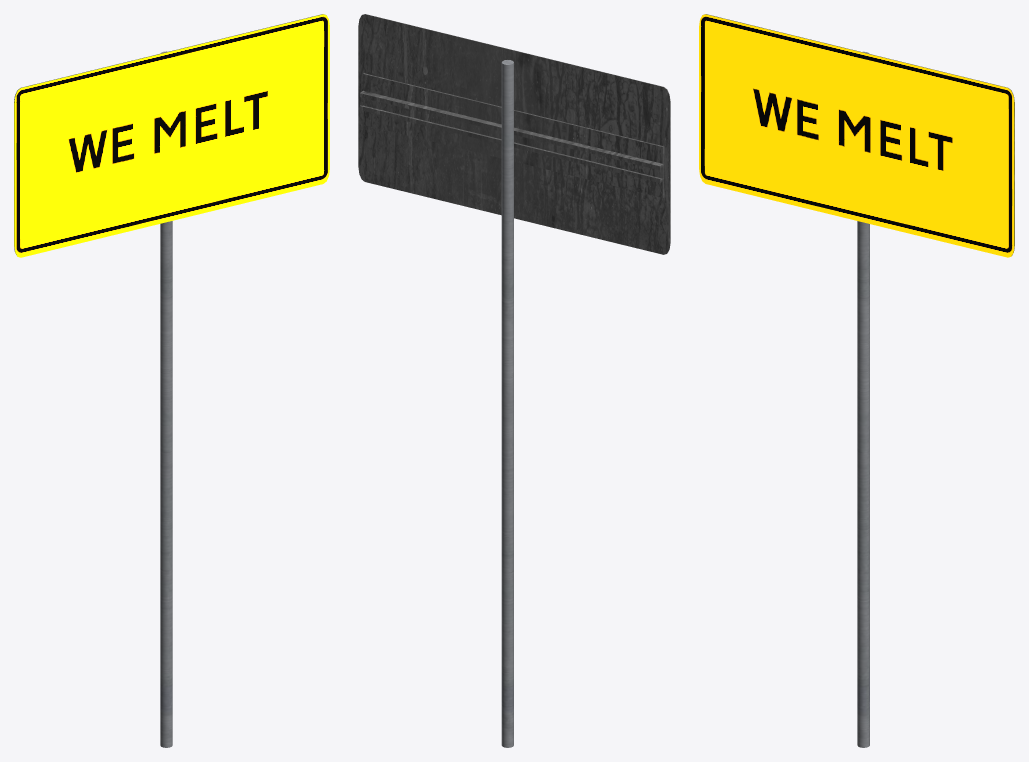
The model's file is we-melt.gltf.
3 renders of one model, left to right at view 1: azimuth 30°, elevation 25°; view 2: azimuth 150°, elevation 25°; view 3: azimuth 330°, elevation 25°, orthographic.
Parts seen in each view (by area): view 1: Sign_S_1.5_.033, PoleA_50.8_2800mm_A_.062; view 2: Sign_S_1.5_.033, PoleA_50.8_2800mm_A_.062; view 3: Sign_S_1.5_.033, PoleA_50.8_2800mm_A_.062.
Boxes of the visible parts, x1,y1,x2,y2 form: Sign_S_1.5_.033: [14, 14, 329, 257]; PoleA_50.8_2800mm_A_.062: [160, 51, 172, 747]; Sign_S_1.5_.033: [358, 14, 670, 254]; PoleA_50.8_2800mm_A_.062: [501, 60, 513, 747]; Sign_S_1.5_.033: [699, 14, 1014, 257]; PoleA_50.8_2800mm_A_.062: [857, 51, 869, 747].
Bounding box in the file's own units: 1 × 2.12 × 0.0518.
3 materials, 3 textured.
